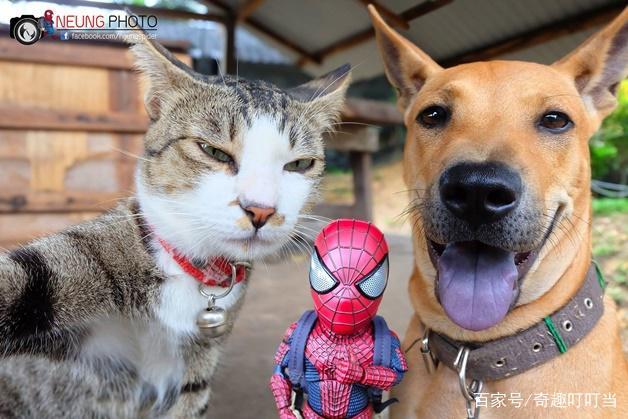cat: (16, 22, 353, 412)
